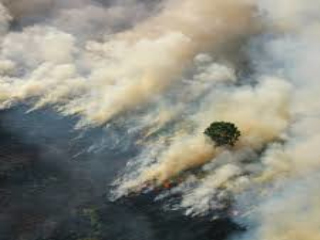fire: (163, 179, 171, 189)
smoke: (4, 12, 312, 198)
